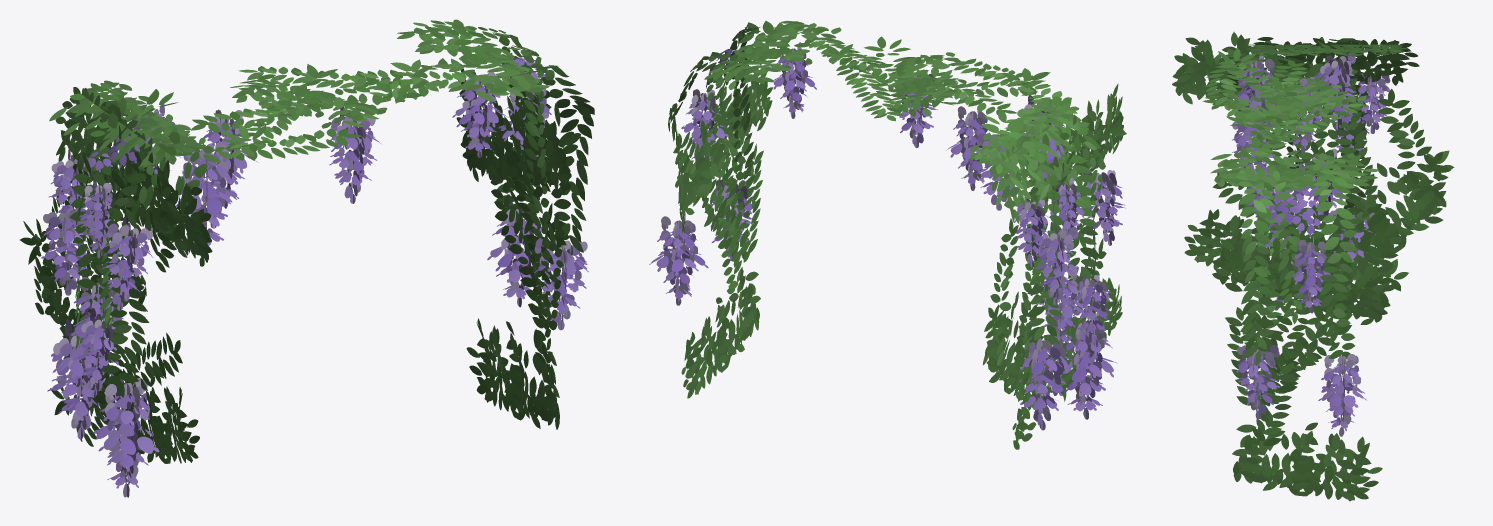
The model's file is SM_Prop_Trellis_01_Insert_01.fbx.
3 renders of one model, left to right at view 1: azimuth 30°, elevation 25°; view 2: azimuth 150°, elevation 25°; view 3: azimuth 270°, elevation 25°, orthographic. The views are drawn at different scales.
Parts seen in each view (by area): view 1: SM_Prop_Trellis_01_Insert_01_LOD0; view 2: SM_Prop_Trellis_01_Insert_01_LOD0; view 3: SM_Prop_Trellis_01_Insert_01_LOD0.
Boxes of the visible parts, <box> form: SM_Prop_Trellis_01_Insert_01_LOD0: <box>20,19,594,497</box>; SM_Prop_Trellis_01_Insert_01_LOD0: <box>649,20,1126,449</box>; SM_Prop_Trellis_01_Insert_01_LOD0: <box>1172,32,1454,501</box>.
Size of what is drawn, in the model's own units: 353 by 276 by 225.
